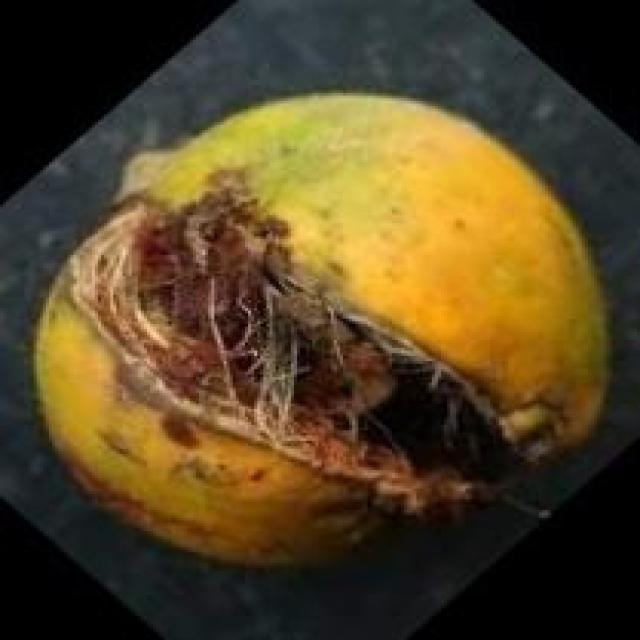damaged: (37, 93, 606, 563)
